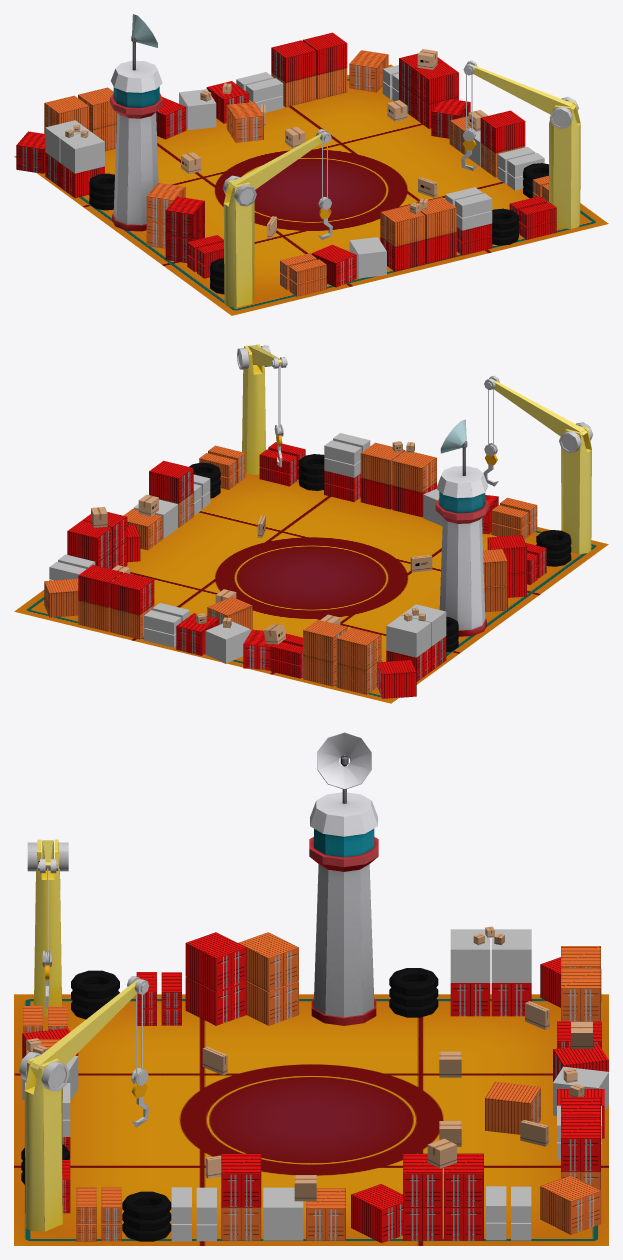
File: Stage2.obj
The picture shows the model from 3 angles, top to bottom: view 1: azimuth 30°, elevation 25°; view 2: azimuth 150°, elevation 25°; view 3: azimuth 270°, elevation 25°; orthographic projection. The views are drawn at different scales.
Visible parts, largest first — view 1: Plane001, redcontainer, orangecontainer, purplecontainer, Cylinder007, pulley1, pulley2, box, tire; view 2: Plane001, redcontainer, orangecontainer, purplecontainer, Cylinder007, pulley2, pulley1, tire, box; view 3: Plane001, redcontainer, orangecontainer, Cylinder007, purplecontainer, pulley1, tire, box, pulley2.
Boxes of the visible parts, x1,y1,x2,y2 form: Plane001: (14, 64, 608, 315); redcontainer: (16, 32, 556, 287); orangecontainer: (44, 50, 548, 296); purplecontainer: (45, 65, 544, 278); Cylinder007: (110, 14, 163, 231); pulley1: (461, 60, 580, 229); pulley2: (222, 129, 332, 307); box: (65, 49, 488, 238); tire: (89, 163, 548, 294); Plane001: (14, 472, 608, 703); redcontainer: (67, 442, 546, 698); orangecontainer: (44, 442, 537, 694); purplecontainer: (49, 433, 446, 663); Cylinder007: (435, 419, 488, 636); pulley2: (483, 375, 593, 554); pulley1: (237, 344, 287, 474); tire: (189, 454, 571, 652); box: (91, 441, 432, 661); Plane001: (14, 994, 608, 1245); redcontainer: (22, 932, 608, 1243); orangecontainer: (23, 932, 601, 1241); Cylinder007: (309, 732, 378, 1025); purplecontainer: (22, 929, 608, 1241); pulley1: (19, 976, 149, 1231); tire: (21, 968, 438, 1241); box: (27, 926, 592, 1201); pulley2: (27, 839, 68, 1016).
Bounding box in the file's own units: 143 × 72.53 × 139.
